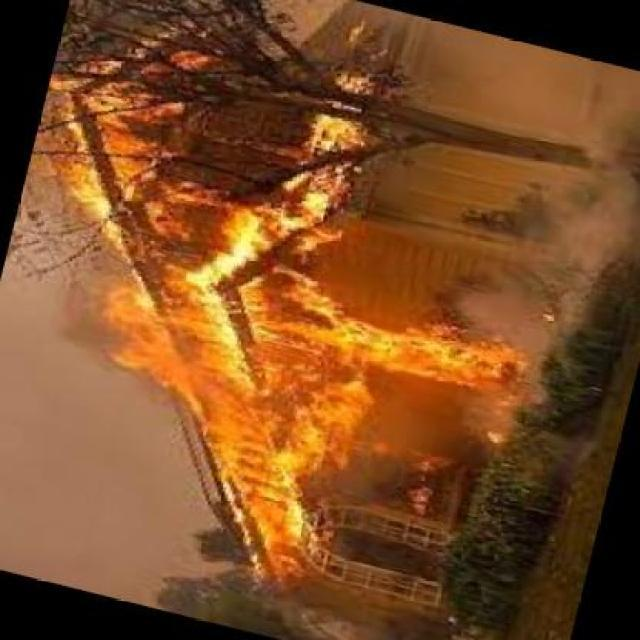Fire: (220, 69, 395, 596), (35, 42, 216, 448), (374, 304, 548, 413)
